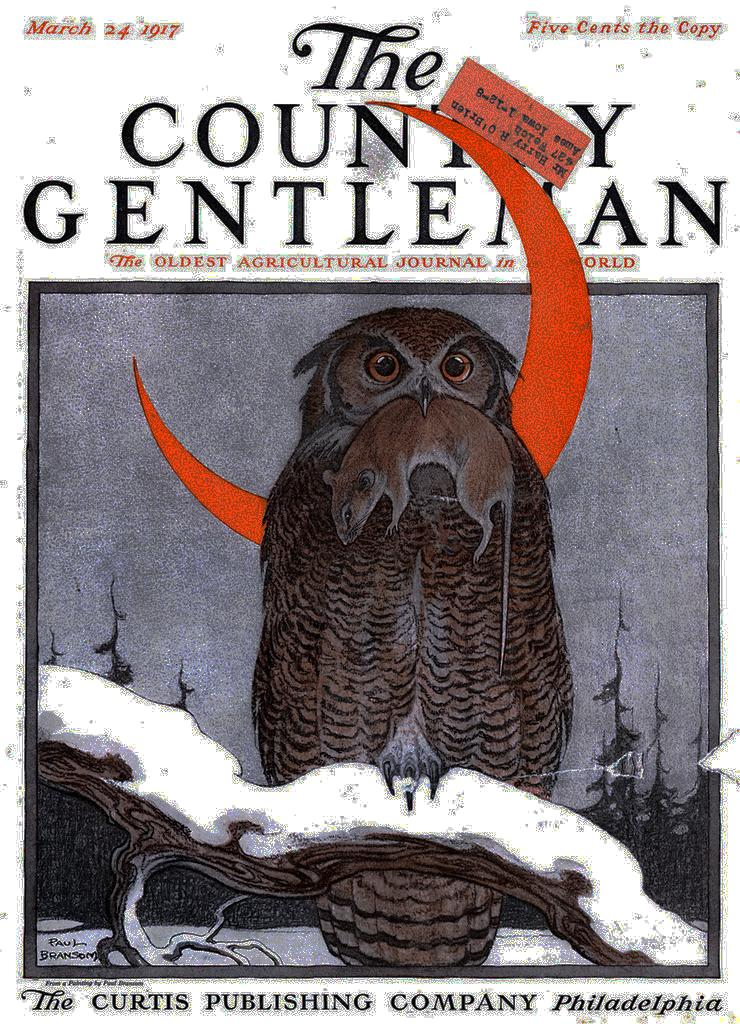Owl: (240, 310, 577, 982)
